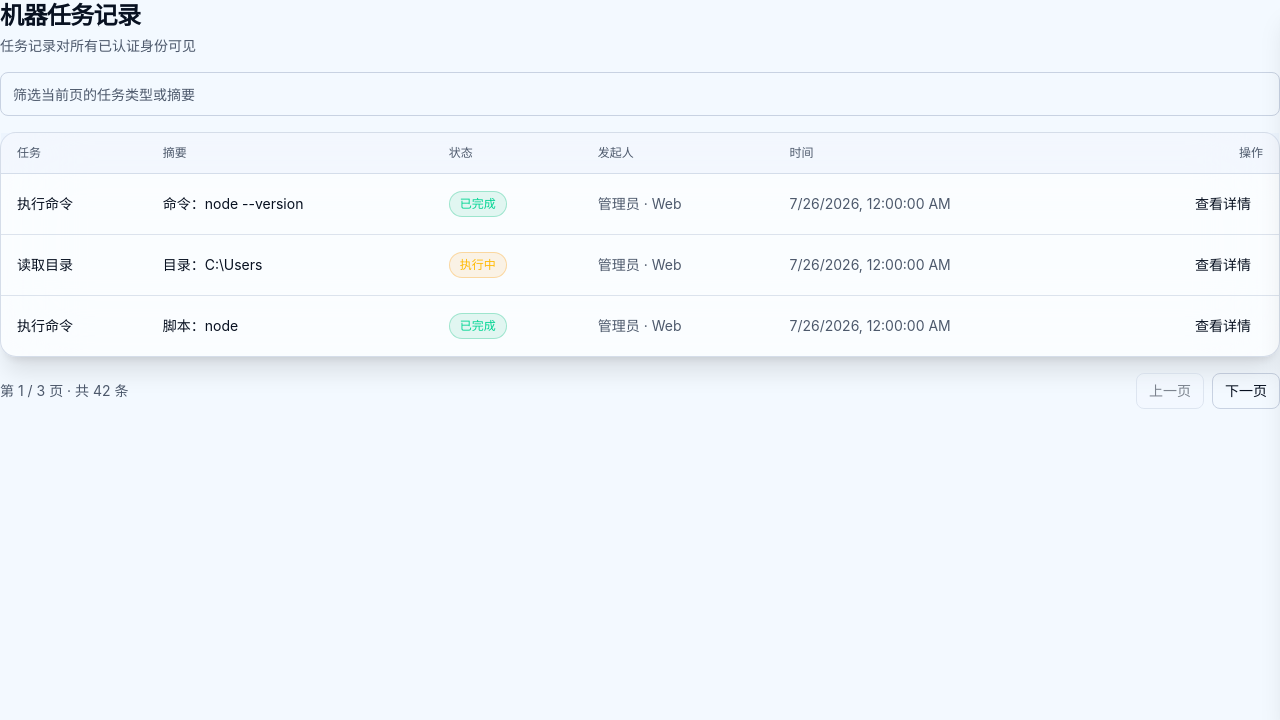
it: shows understandable jobs in a paginated table and opens details in a drawer
expect the text "第 1 / 3 页 · 共 42 条" is shown: met, box [0, 381, 128, 401]
Click the button "下一页" at (1246, 391), box [1212, 373, 1279, 409]
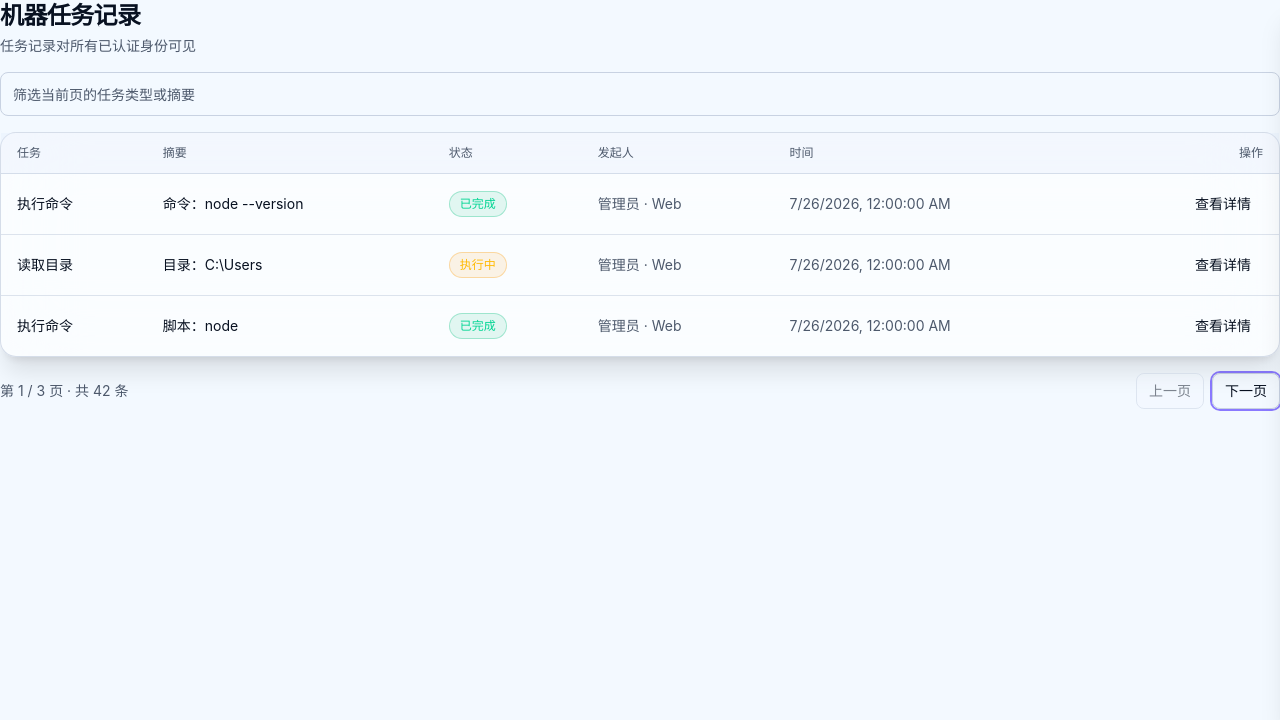
expect the text "执行命令" is shown 2 times: met, box [1, 174, 147, 234]; [1, 296, 147, 356]
expect the text "读取目录" is shown: met, box [1, 234, 147, 296]
Click the text "命令：node --version" at (233, 204), box [163, 195, 303, 212]
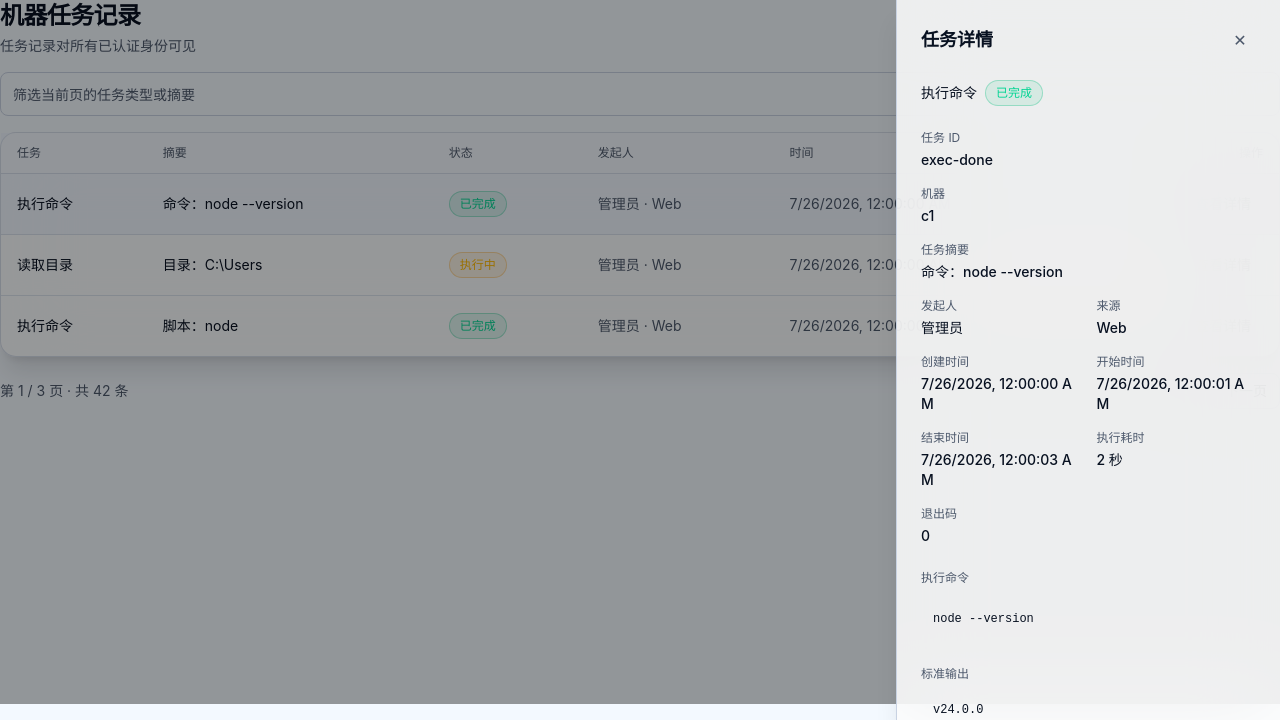
expect the dialog "任务详情" shows "exec-done": met, box [921, 151, 993, 168]
expect the dialog "任务详情" shows "标准输出": met, box [921, 666, 969, 680]
expect the dialog "任务详情" shows "v24.0.0": met, box [933, 702, 983, 716]
Click the button named "关闭" at (1240, 40), box [1224, 24, 1256, 56]
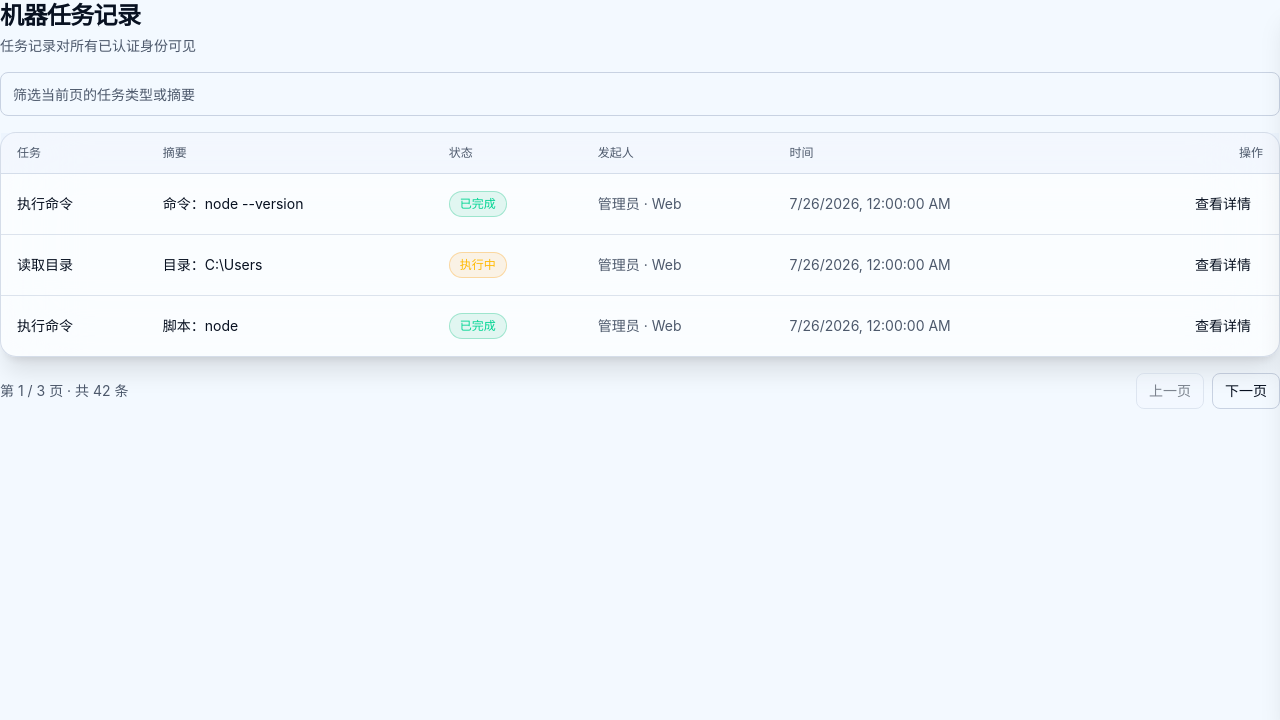
Click the text "脚本：node" at (200, 326), box [163, 317, 238, 334]
(page scrolled)
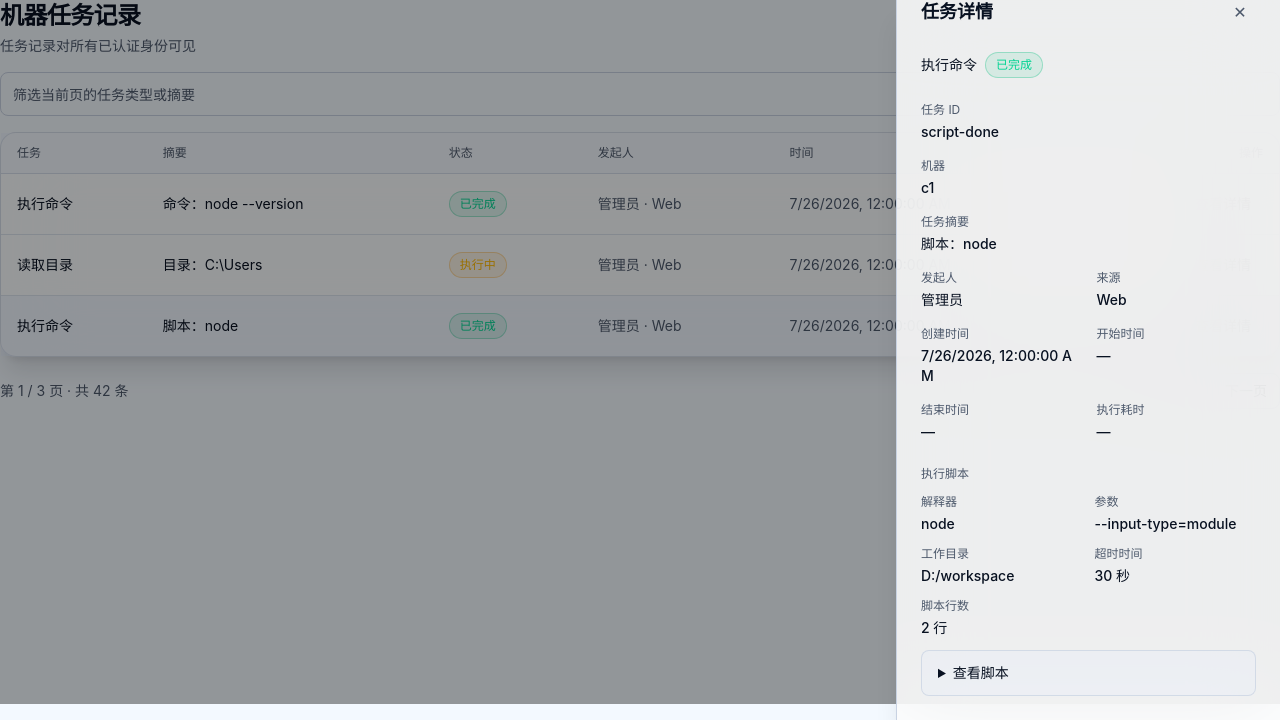
expect the text "--input-type=module" is shown: met, box [1094, 514, 1256, 534]
expect the text "D:/workspace" is shown: met, box [921, 567, 1014, 584]
expect the text "30 秒" is shown: met, box [1094, 567, 1130, 584]
Click the heading "查看脚本" at (981, 672), box [953, 664, 1009, 681]
(page scrolled)
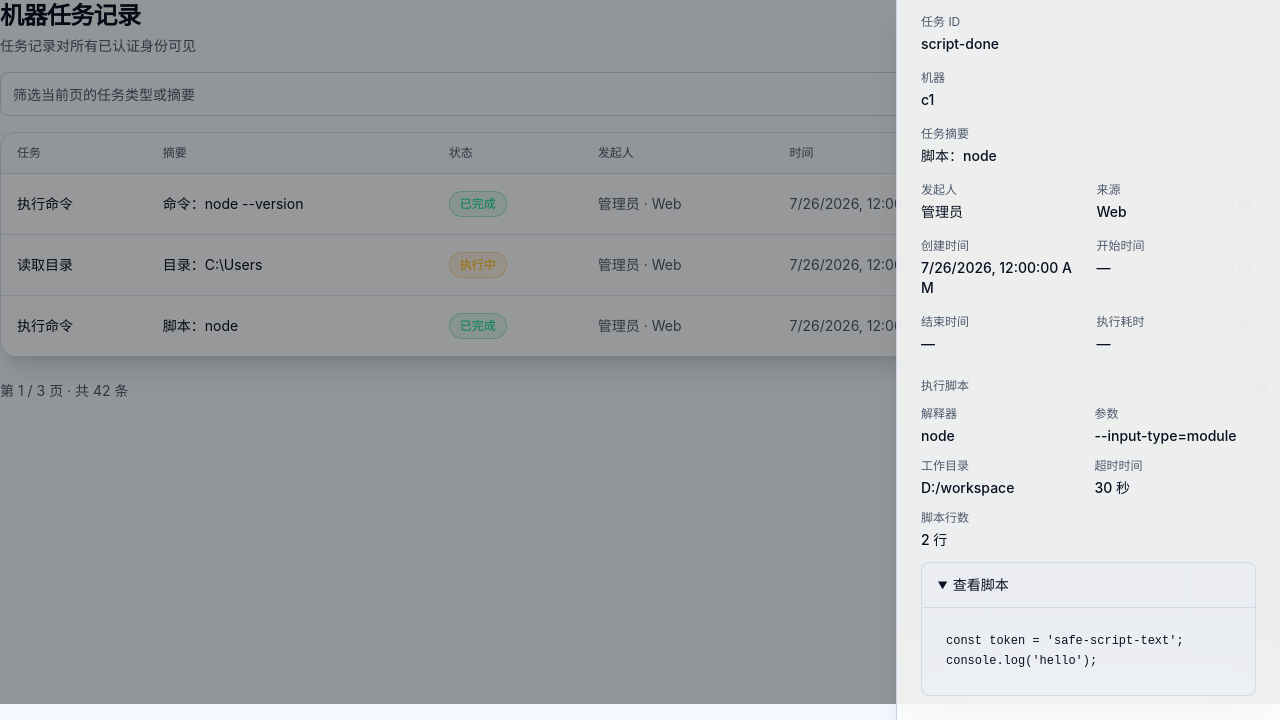
expect the text "const token = 'safe-script-text'; console.log('hello');" is shown: met, box [946, 634, 1184, 668]
